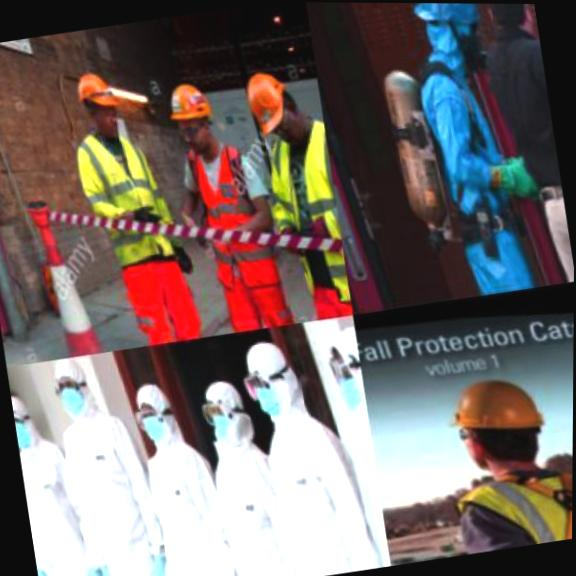safety_vest: (386, 23, 533, 266), (42, 387, 206, 576), (242, 390, 389, 576), (123, 412, 275, 576), (192, 412, 341, 576), (54, 104, 180, 273), (241, 113, 349, 305), (425, 428, 573, 558), (16, 426, 129, 576), (170, 120, 267, 257), (16, 434, 79, 576)
